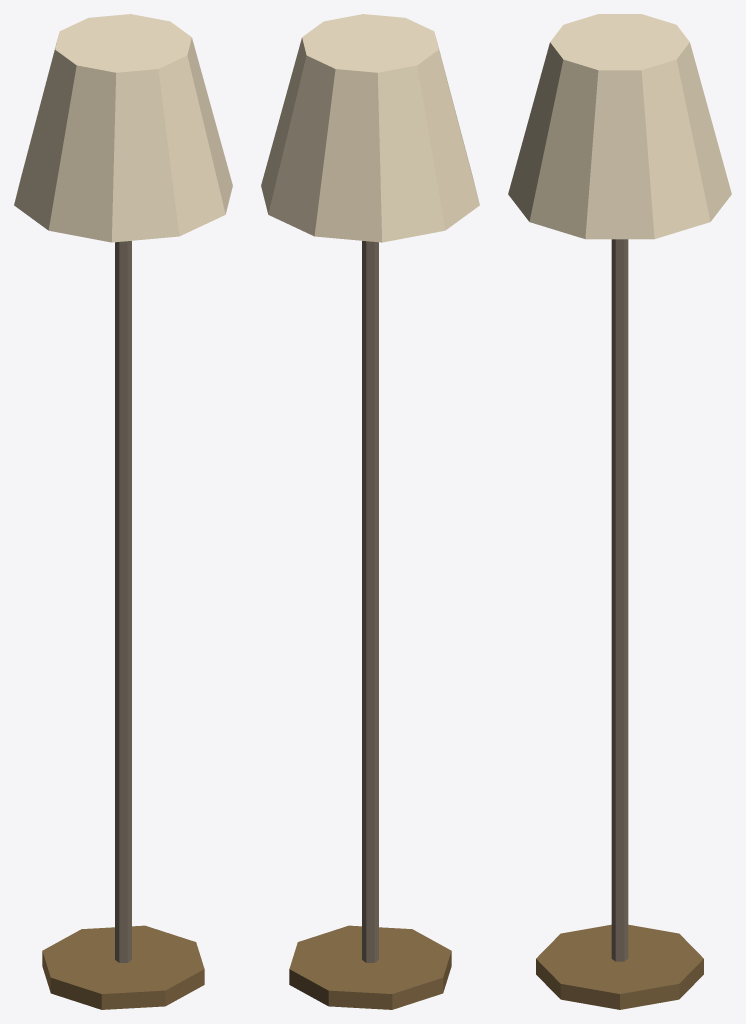
Rendered from floor-lamp.glb.
3 views of the same model, side by side, from view 1: azimuth 30°, elevation 25°; view 2: azimuth 150°, elevation 25°; view 3: azimuth 270°, elevation 25° (orthographic).
Parts seen in each view (by area): view 1: FloorLamp; view 2: FloorLamp; view 3: FloorLamp.
Boxes of the visible parts, x1,y1,x2,y2 form: FloorLamp: (14, 14, 232, 1009); FloorLamp: (261, 14, 479, 1009); FloorLamp: (508, 14, 731, 1009).
Size of the model in its own units: 0.3043 by 1.47 by 0.32.
